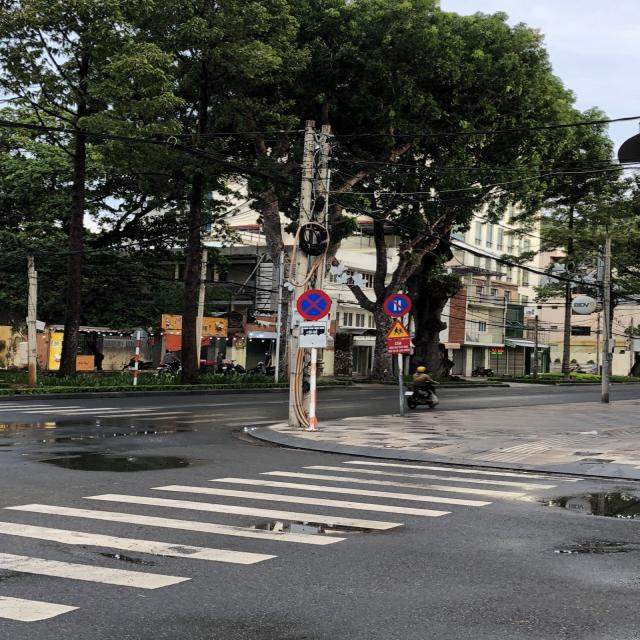Bien bao cam dung xe va do xe: (294, 286, 334, 320)
Bien bao tre em: (384, 320, 414, 340)
